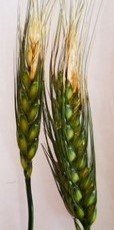Wheat scab: (47, 31, 102, 220), (13, 16, 45, 172)
